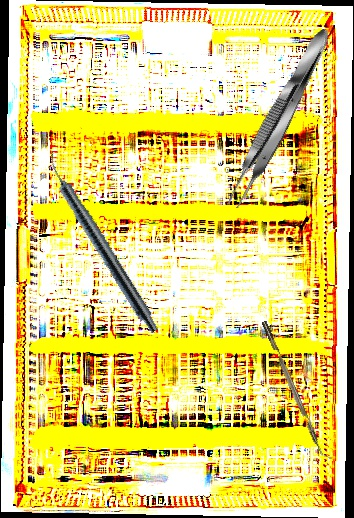Chopper: (261, 317, 333, 464)
Handpiece: (38, 149, 165, 336)
Tissue Forceps: (220, 23, 339, 213)
